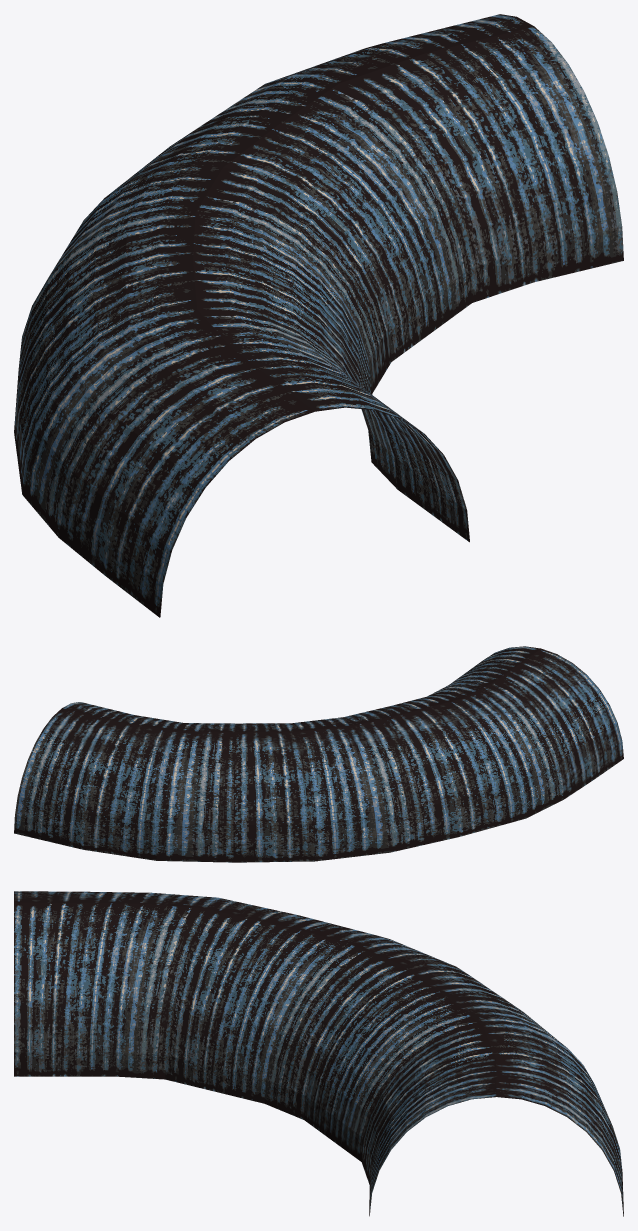
Rendered from SM_EU_MetalTunnel_Bend_1.001.fbx.
The picture shows the model from 3 angles, top to bottom: view 1: azimuth 30°, elevation 25°; view 2: azimuth 150°, elevation 25°; view 3: azimuth 270°, elevation 25°; orthographic projection. The views are drawn at different scales.
Visible parts, largest first — view 1: SM_EU_MetalTunnel_Bend_1.001; view 2: SM_EU_MetalTunnel_Bend_1.001; view 3: SM_EU_MetalTunnel_Bend_1.001.
Boxes of the visible parts, left/top/right/bottom form: SM_EU_MetalTunnel_Bend_1.001: left=14, top=14, right=623, bottom=617; SM_EU_MetalTunnel_Bend_1.001: left=14, top=646, right=623, bottom=862; SM_EU_MetalTunnel_Bend_1.001: left=14, top=891, right=623, bottom=1216.
Bounding box in the file's own units: 11.5 × 11.97 × 2.6.
